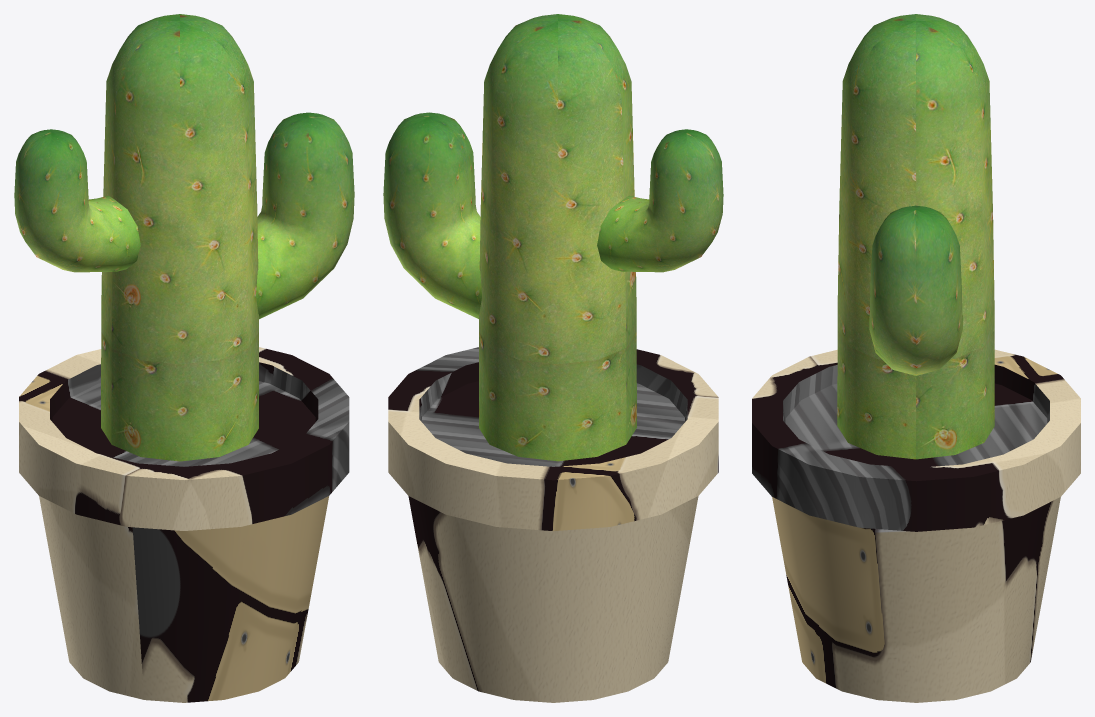
File: FlowerPot8.FBX
The picture shows the model from 3 angles, left to right: view 1: azimuth 30°, elevation 25°; view 2: azimuth 150°, elevation 25°; view 3: azimuth 270°, elevation 25°; orthographic projection.
Parts seen in each view (by area): view 1: plant5, flowerpot006; view 2: plant5, flowerpot006; view 3: flowerpot006, plant5.
Part boxes in pixels (<box>): plant5: <box>14,14,354,461</box>; flowerpot006: <box>19,347,349,702</box>; plant5: <box>383,14,723,461</box>; flowerpot006: <box>388,347,718,702</box>; flowerpot006: <box>752,349,1080,702</box>; plant5: <box>837,14,994,459</box>.
Size of the model in its own units: 9.48 by 17.44 by 8.24.
Materials: 2 (2 with a texture image).
